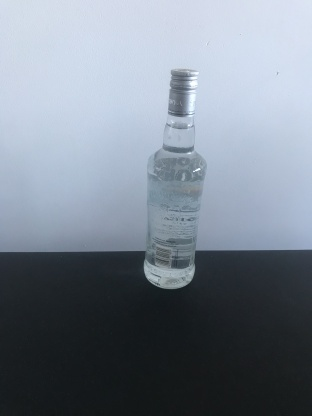nakretka: (166, 65, 201, 118)
